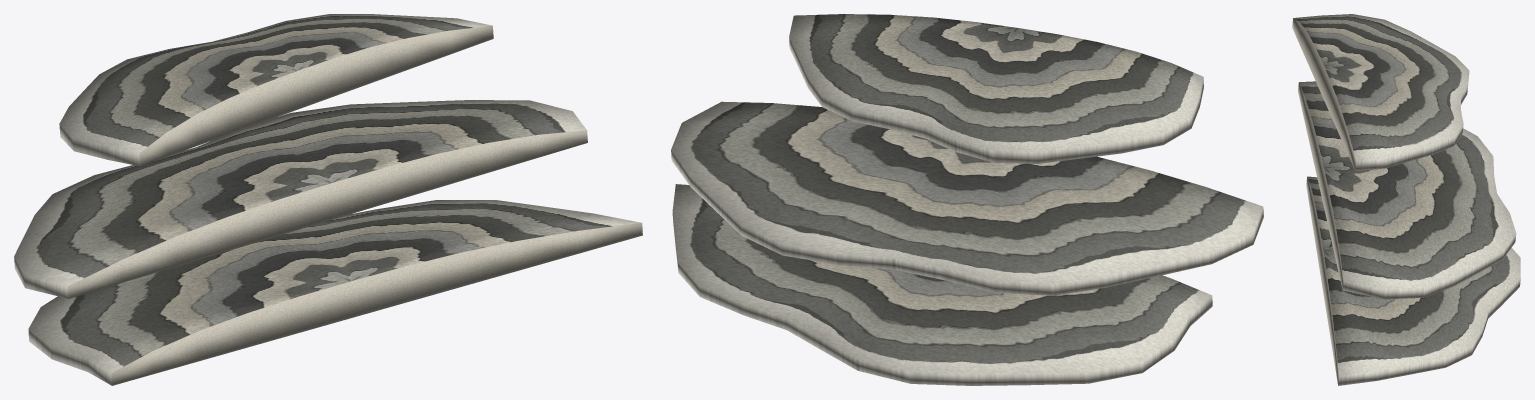
Rendered from bracket_fungus_v03.glb.
3 views of the same model, side by side, from view 1: azimuth 30°, elevation 25°; view 2: azimuth 150°, elevation 25°; view 3: azimuth 270°, elevation 25° (orthographic). The views are drawn at different scales.
Visible parts, largest first — view 1: bracket_fungus_v03; view 2: bracket_fungus_v03; view 3: bracket_fungus_v03.
Part boxes in pixels (x1,y1,x2,y2): bracket_fungus_v03: (14, 14, 642, 385); bracket_fungus_v03: (671, 14, 1263, 385); bracket_fungus_v03: (1292, 14, 1520, 385).
Bounding box in the file's own units: 0.2931 × 0.1269 × 0.1264.
2 materials, 2 textured.
